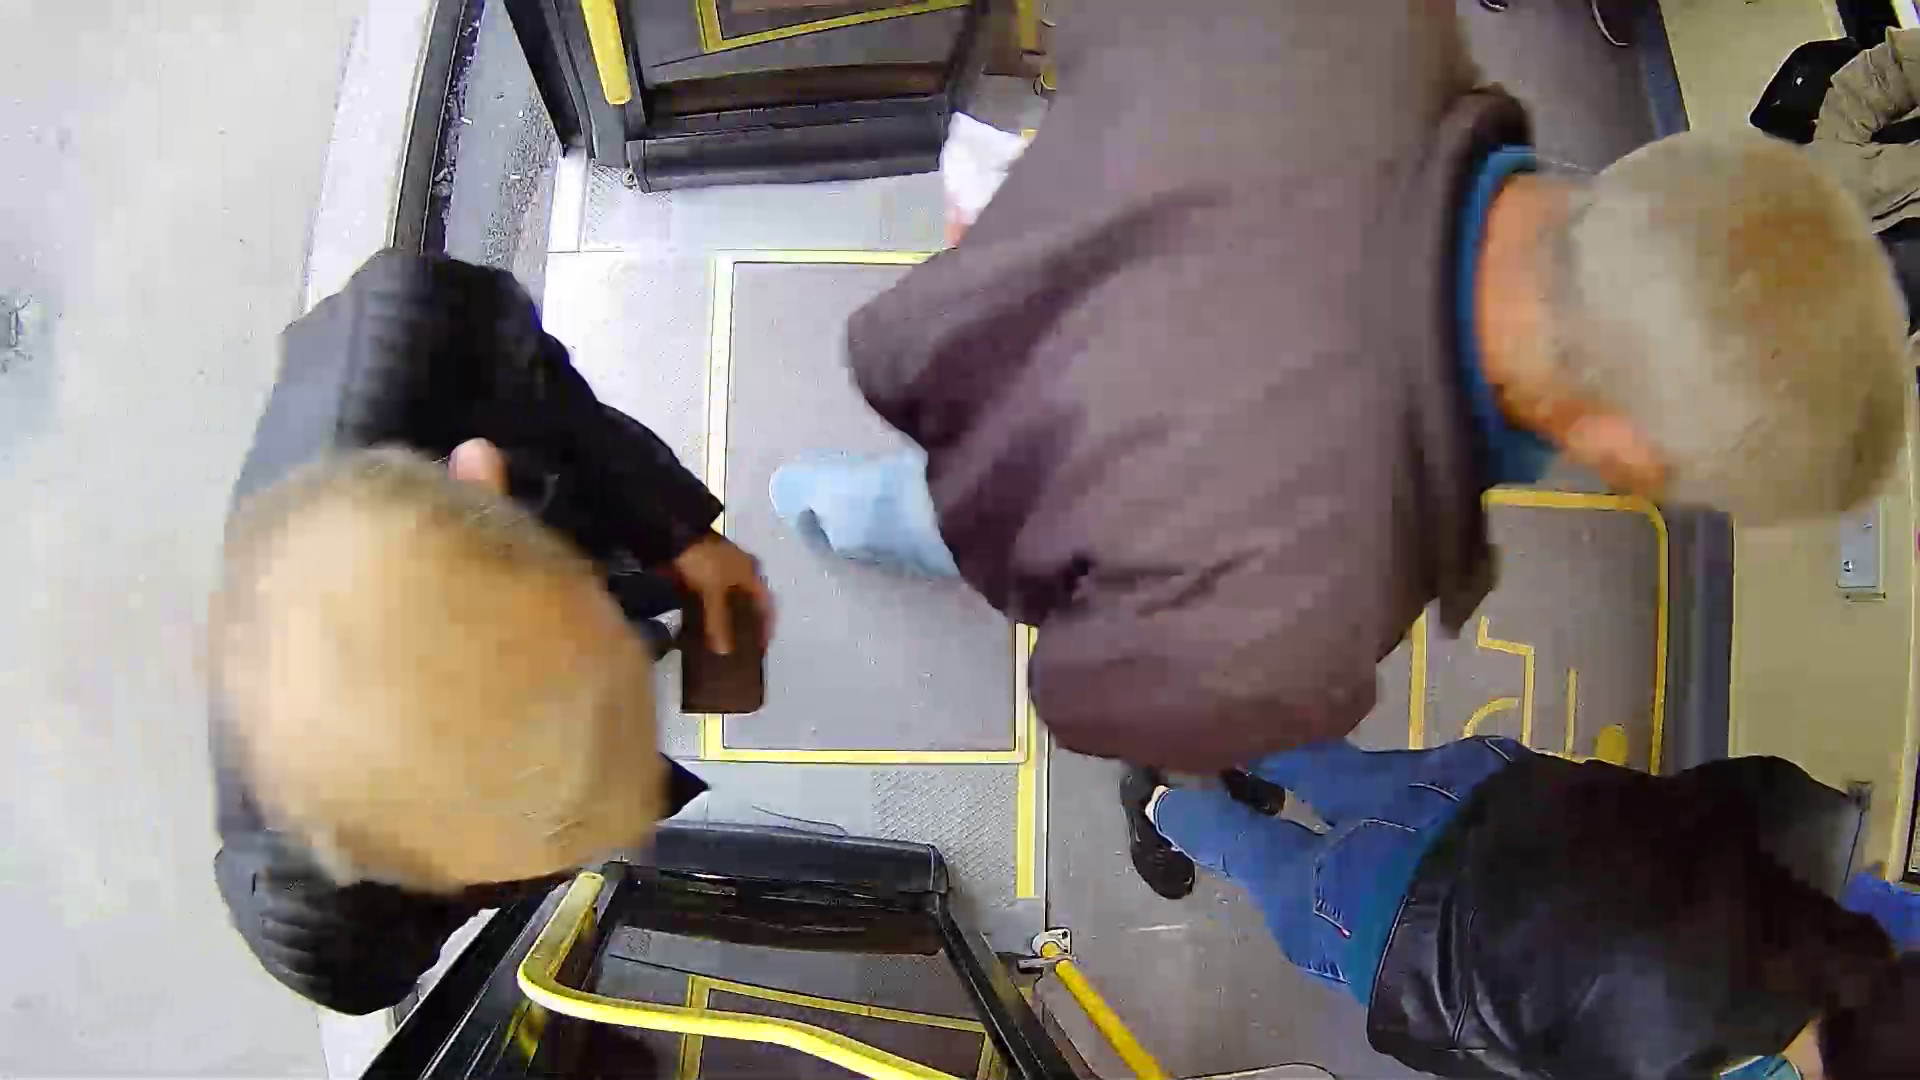person: (882, 15, 1896, 765), (177, 264, 839, 913)
